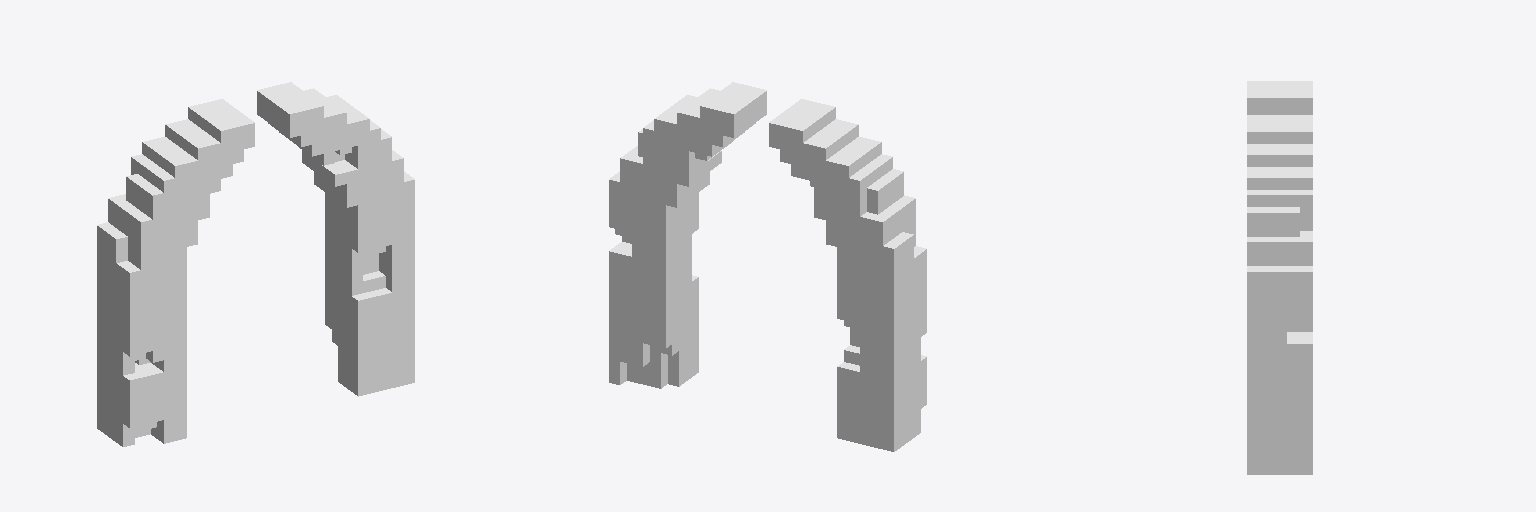
Rendered from teleport.obj.
3 views of the same model, side by side, from view 1: azimuth 30°, elevation 25°; view 2: azimuth 150°, elevation 25°; view 3: azimuth 270°, elevation 25° (orthographic).
Parts seen in each view (by area): view 1: object 1; view 2: object 1; view 3: object 1.
Part boxes in pixels (x1,y1,x2,y2): object 1: (97, 82, 414, 446); object 1: (609, 82, 926, 451); object 1: (1247, 81, 1312, 474).
Bounding box in the file's own units: 2.5 × 2.5 × 0.5.